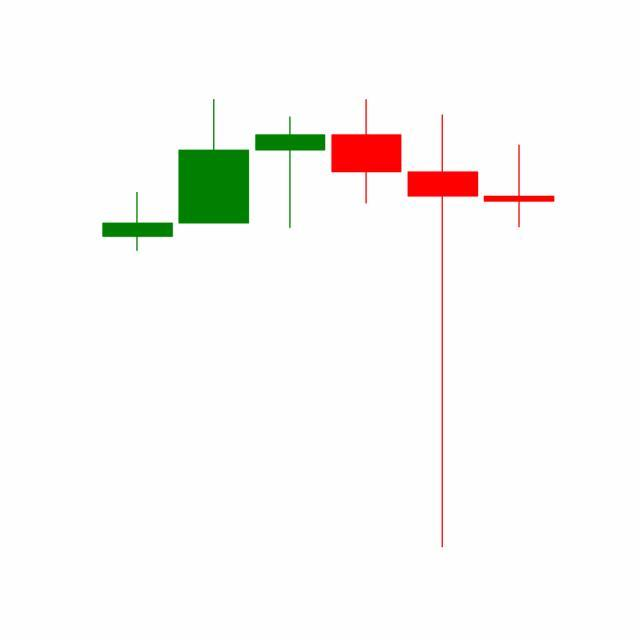Spinning Top: (404, 111, 482, 554)
